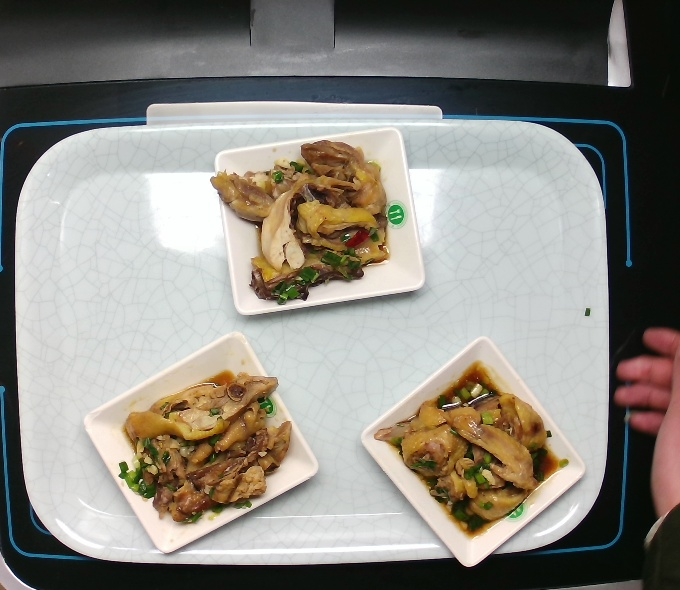wcq-CongYouJi: (367, 355, 573, 542), (203, 135, 398, 308), (111, 362, 299, 532)
